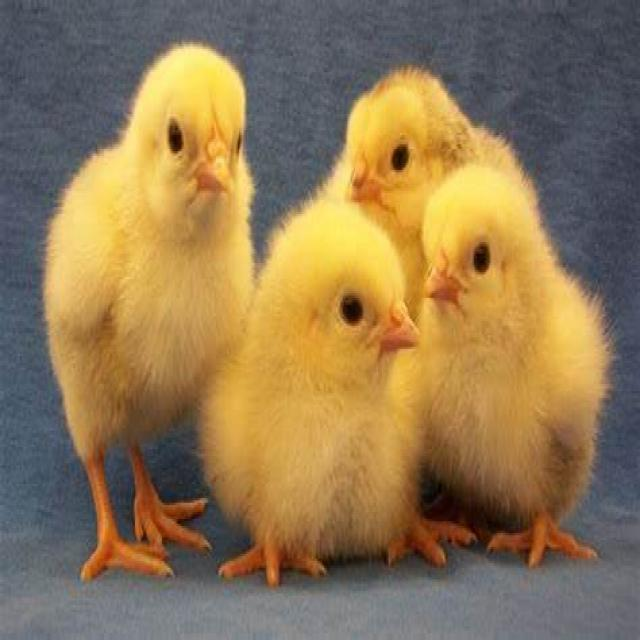poussin: (42, 45, 266, 600), (398, 160, 616, 590), (211, 210, 429, 584), (306, 69, 522, 233)
